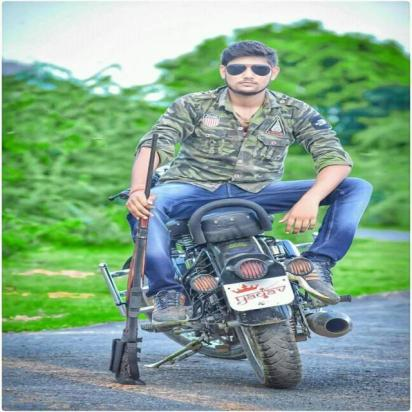Gun: (107, 131, 160, 387)
